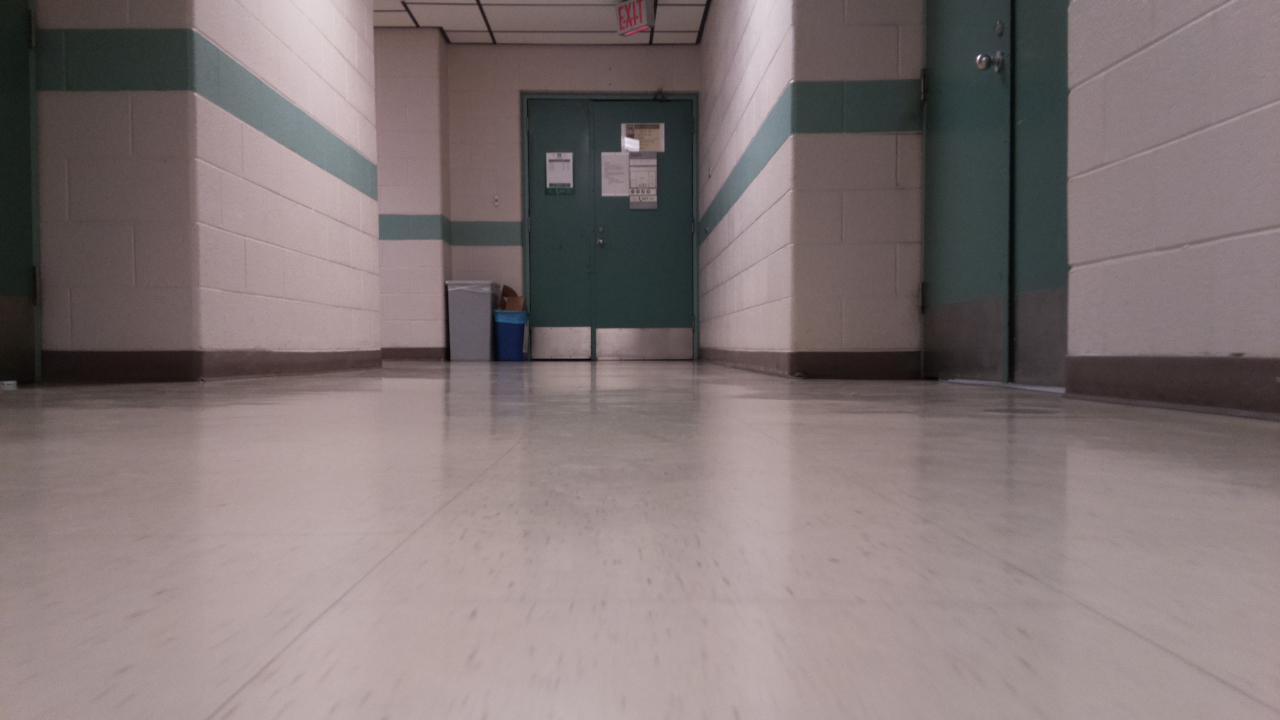door: (527, 98, 693, 360)
sign: (614, 0, 647, 35)
